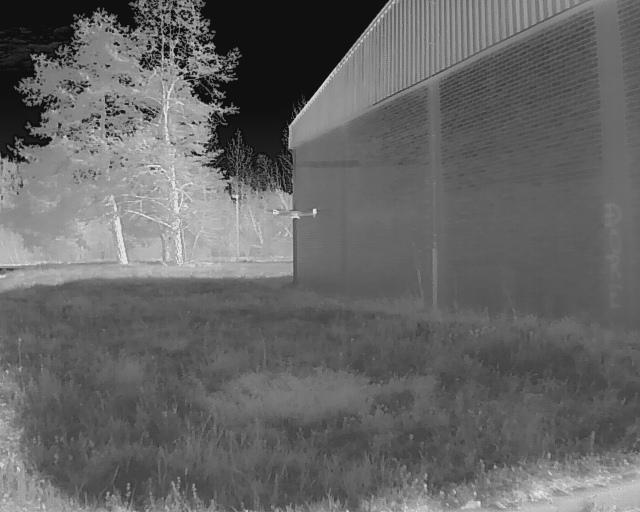drone: (264, 201, 327, 227)
